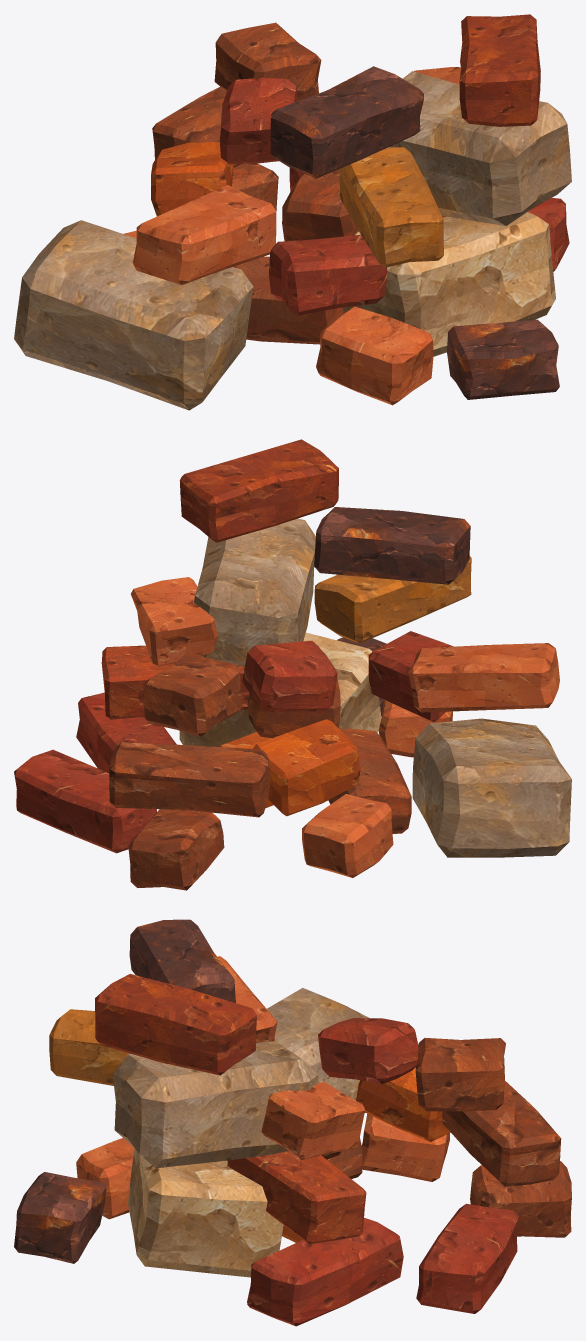
The model's file is ruin_rubble__clay_brick.glb.
The picture shows the model from 3 angles, top to bottom: view 1: azimuth 30°, elevation 25°; view 2: azimuth 150°, elevation 25°; view 3: azimuth 270°, elevation 25°; orthographic projection. The views are drawn at different scales.
Parts seen in each view (by area): view 1: model; view 2: model; view 3: model.
Part boxes in pixels (x1,y1,x2,y2): model: (14, 14, 571, 410); model: (14, 439, 571, 890); model: (14, 919, 571, 1326).
Bounding box in the file's own units: 1.18 × 0.6266 × 1.12.
Materials: 10 (10 with a texture image).
